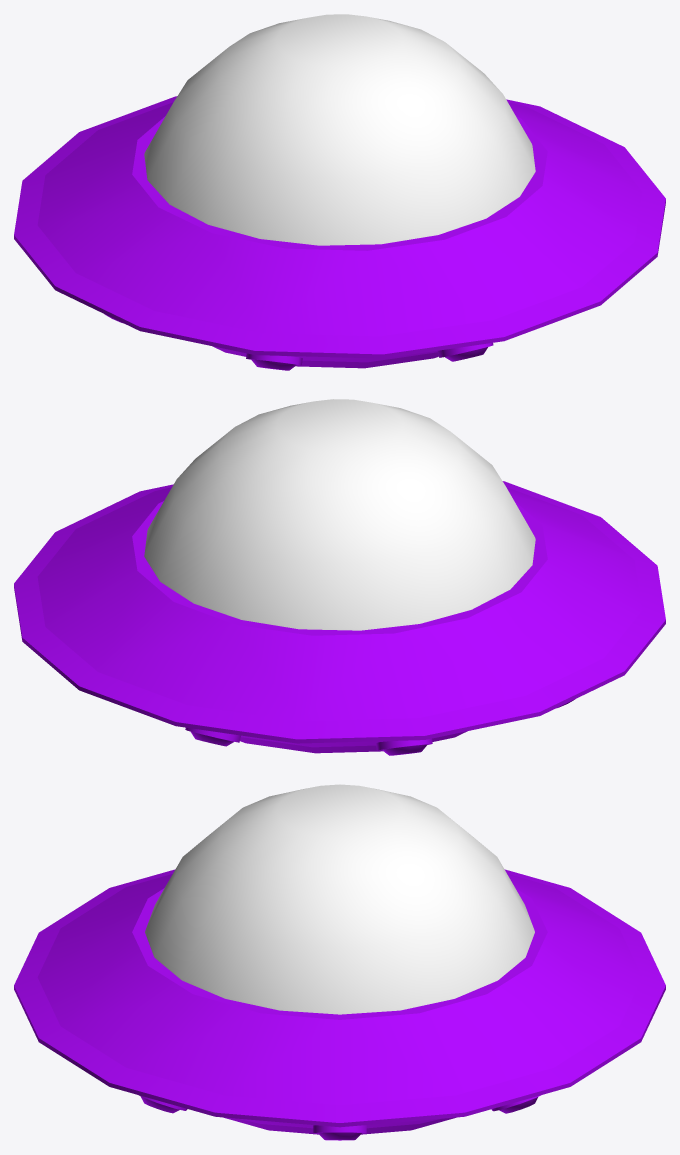
File: Soucoupe.fbx
3 renders of one model, top to bottom at view 1: azimuth 30°, elevation 25°; view 2: azimuth 150°, elevation 25°; view 3: azimuth 270°, elevation 25°, orthographic.
Parts seen in each view (by area): view 1: Cylinder009; view 2: Cylinder009; view 3: Cylinder009.
Boxes of the visible parts, <box> form: Cylinder009: <box>14,14,665,370</box>; Cylinder009: <box>14,399,665,755</box>; Cylinder009: <box>14,784,665,1140</box>.
Bounding box in the file's own units: 12.75 × 12.75 × 5.31.
